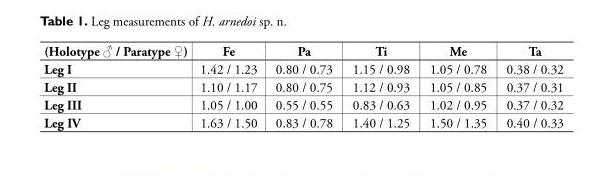table: (43, 42, 562, 131)
table column: (43, 42, 193, 131), (341, 42, 418, 131), (418, 42, 495, 131), (265, 42, 341, 131), (193, 42, 265, 131), (495, 42, 562, 131)
table row: (43, 59, 562, 78), (43, 95, 562, 113), (43, 113, 562, 131), (43, 42, 562, 59), (43, 78, 562, 95)
